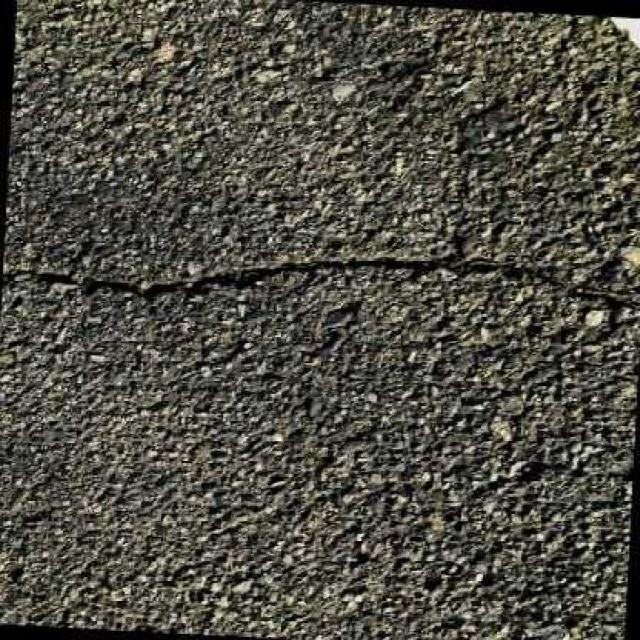D00: (2, 256, 617, 305)
